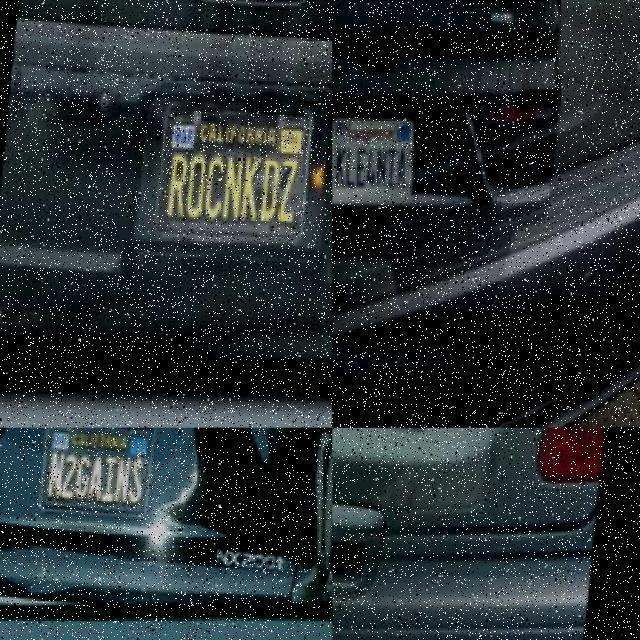LicensePlate: (155, 103, 317, 254), (332, 428, 446, 524), (41, 428, 157, 521), (333, 112, 412, 204)
